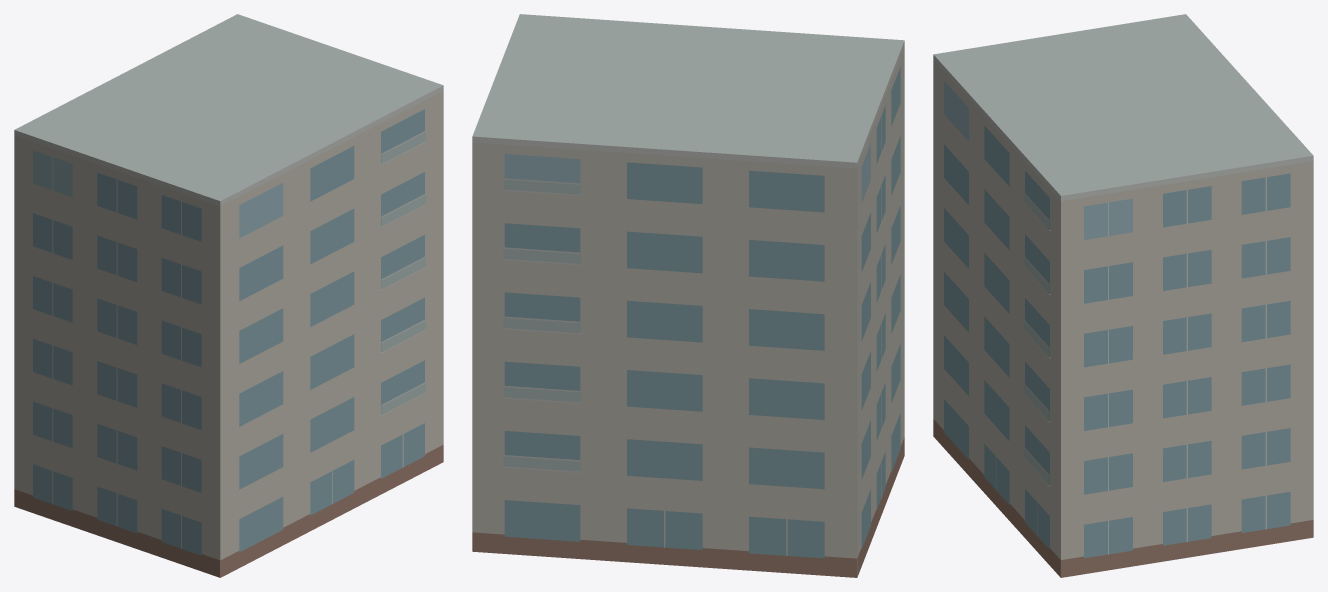
File: survey-upis-32937034.glb
3 renders of one model, left to right at view 1: azimuth 30°, elevation 25°; view 2: azimuth 150°, elevation 25°; view 3: azimuth 270°, elevation 25°, orthographic. The views are drawn at different scales.
Parts seen in each view (by area): view 1: survey-upis-32937034.tmp; view 2: survey-upis-32937034.tmp; view 3: survey-upis-32937034.tmp.
Boxes of the visible parts, <box> form: survey-upis-32937034.tmp: <box>14,14,443,577</box>; survey-upis-32937034.tmp: <box>472,14,904,577</box>; survey-upis-32937034.tmp: <box>933,14,1313,577</box>.
Bounding box in the file's own units: 17.68 × 17.3 × 15.62.
